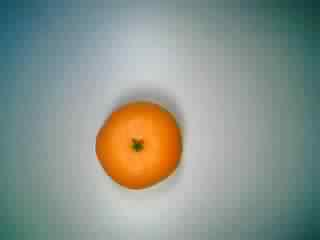orange: (91, 91, 186, 193)
